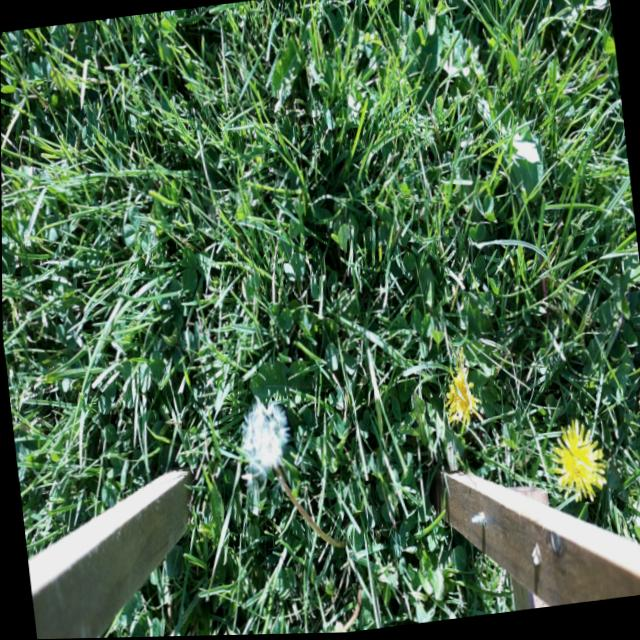base: (329, 527, 352, 563)
